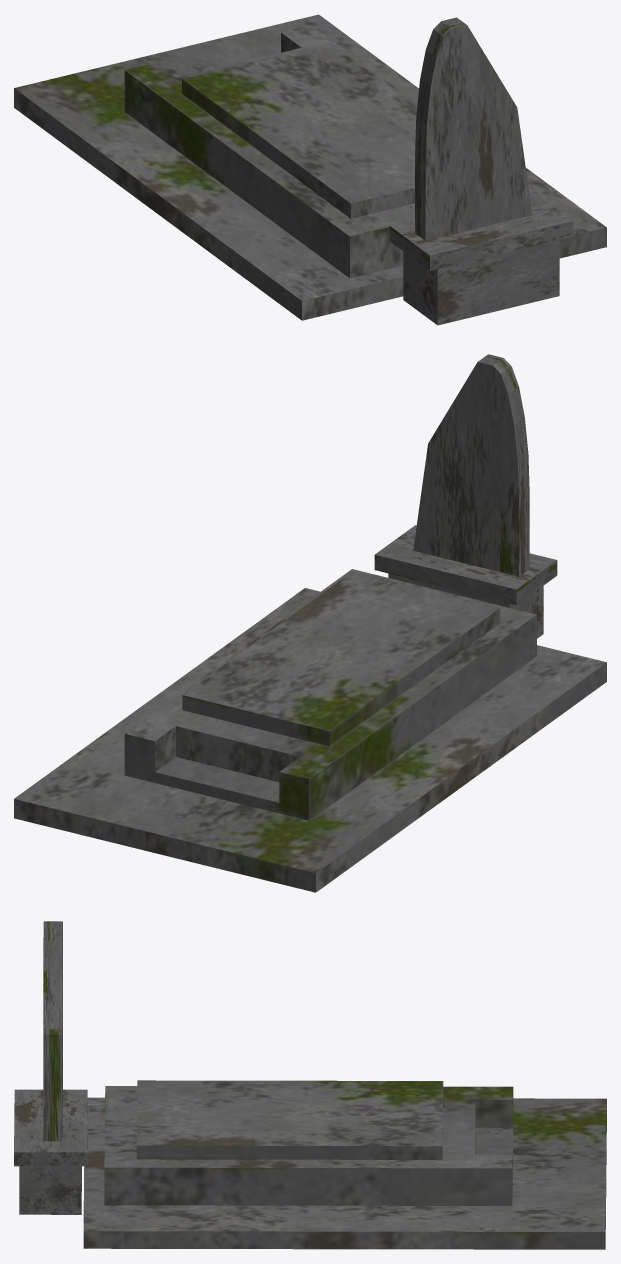
File: Tumba1.obj
3 views of the same model, one above another, from view 1: azimuth 30°, elevation 25°; view 2: azimuth 150°, elevation 25°; view 3: azimuth 270°, elevation 25° (orthographic). The views are drawn at different scales.
Parts seen in each view (by area): view 1: Cube.001_Cube.008; view 2: Cube.001_Cube.008; view 3: Cube.001_Cube.008.
Boxes of the visible parts, x1=… form: Cube.001_Cube.008: x1=14, y1=14, x2=606, y2=325; Cube.001_Cube.008: x1=14, y1=354, x2=606, y2=892; Cube.001_Cube.008: x1=14, y1=921, x2=606, y2=1249.
Size of the model in its own units: 1.96 by 1.71 by 3.65.
1 material, 1 textured.
